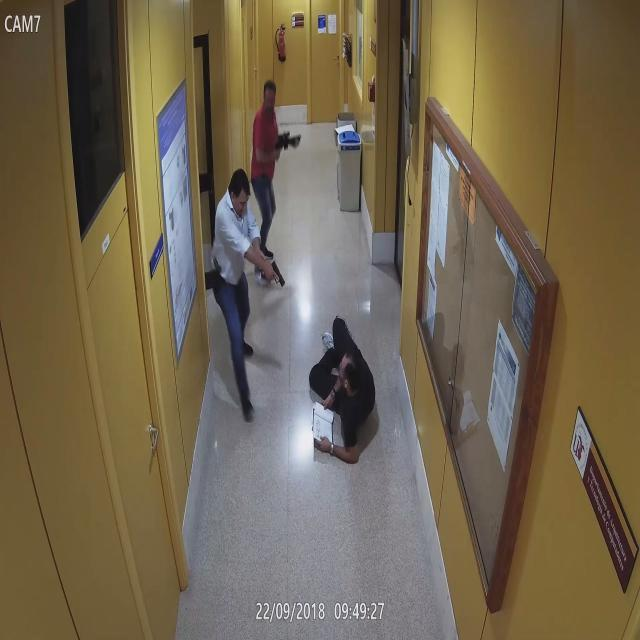weapon: (262, 260, 286, 290), (272, 130, 302, 152)
